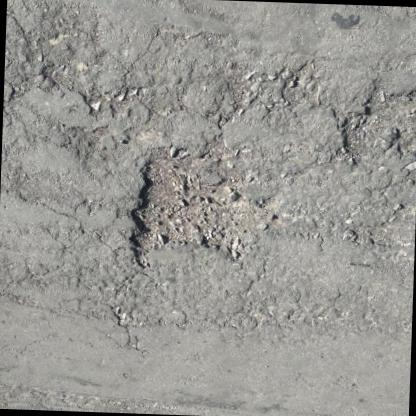pothole: (121, 146, 266, 276), (336, 90, 391, 165)
